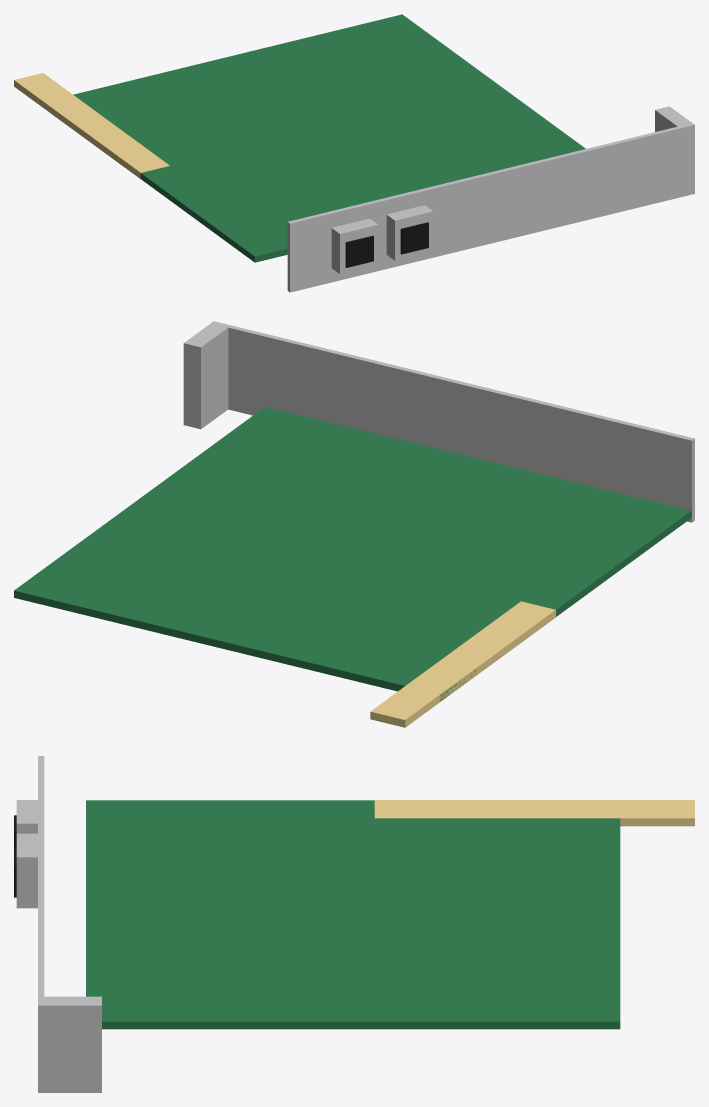
File: card_modem.glb
3 renders of one model, top to bottom at view 1: azimuth 30°, elevation 25°; view 2: azimuth 150°, elevation 25°; view 3: azimuth 270°, elevation 25°, orthographic. The views are drawn at different scales.
Parts seen in each view (by area): view 1: card_modem_body; view 2: card_modem_body; view 3: card_modem_body.
Part boxes in pixels (bbox=[...]): card_modem_body: bbox=[14, 14, 694, 292]; card_modem_body: bbox=[14, 321, 694, 727]; card_modem_body: bbox=[14, 756, 694, 1092].
Size of the model in its own units: 0.115 by 0.0228 by 0.1275.
